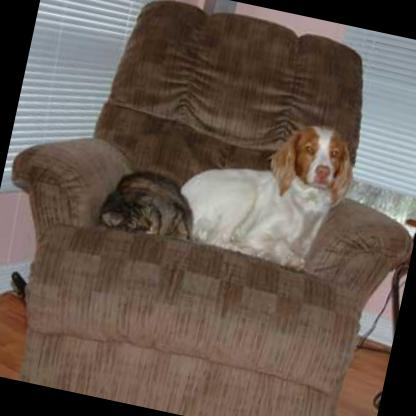Brittany_spaniel: (169, 94, 358, 272)
